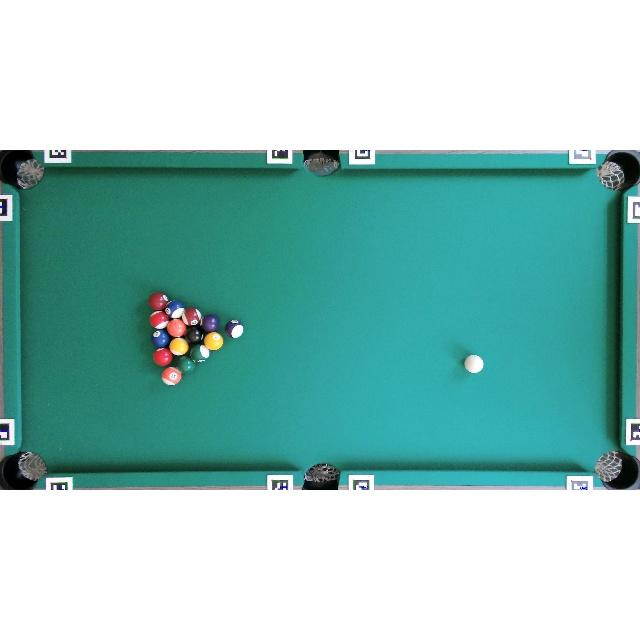cue ball: (464, 354, 484, 374)
other: (149, 310, 170, 330), (162, 366, 182, 386), (148, 292, 169, 311), (167, 319, 187, 338), (164, 300, 185, 318), (151, 329, 170, 348), (204, 332, 224, 350), (153, 348, 173, 366), (170, 338, 190, 356), (182, 308, 202, 326), (190, 344, 210, 362), (202, 314, 220, 333), (225, 320, 244, 338), (177, 356, 196, 373), (186, 326, 203, 344)
